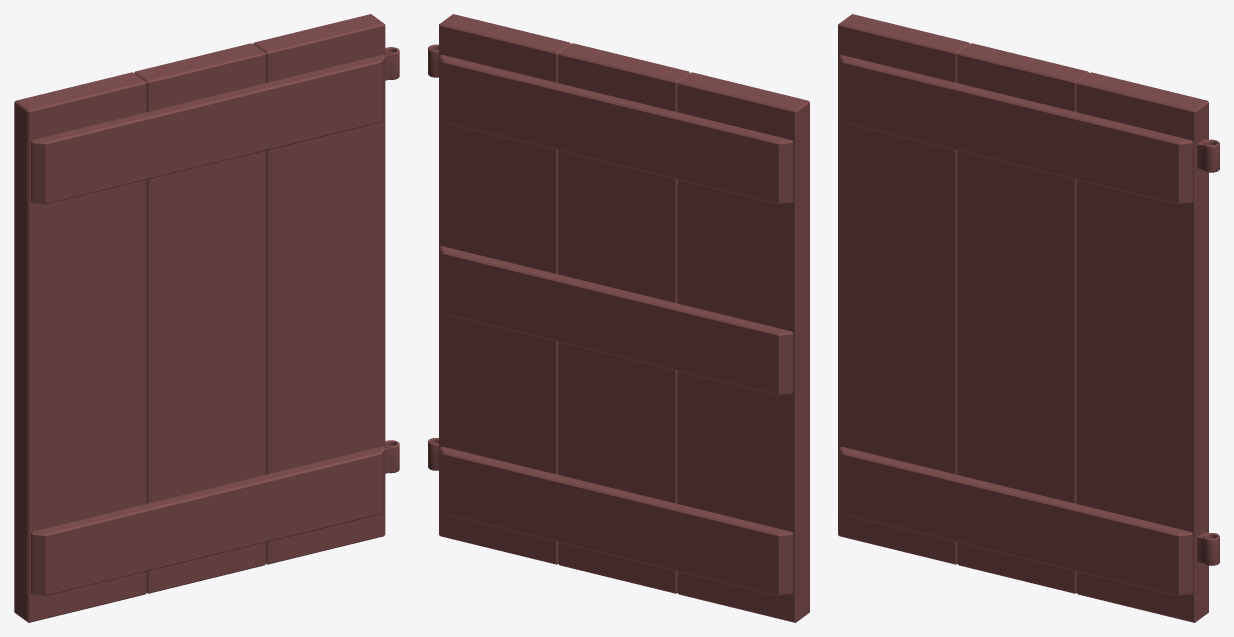
Rendered from Shutter.fbx.
3 views of the same model, side by side, from view 1: azimuth 30°, elevation 25°; view 2: azimuth 150°, elevation 25°; view 3: azimuth 330°, elevation 25° (orthographic).
Parts seen in each view (by area): view 1: Shutter; view 2: Shutter; view 3: Shutter.
Boxes of the visible parts, <box> form: Shutter: <box>14,14,399,622</box>; Shutter: <box>428,14,809,622</box>; Shutter: <box>838,14,1219,622</box>.
Bounding box in the file's own units: 63.33 × 82.51 × 7.88.
